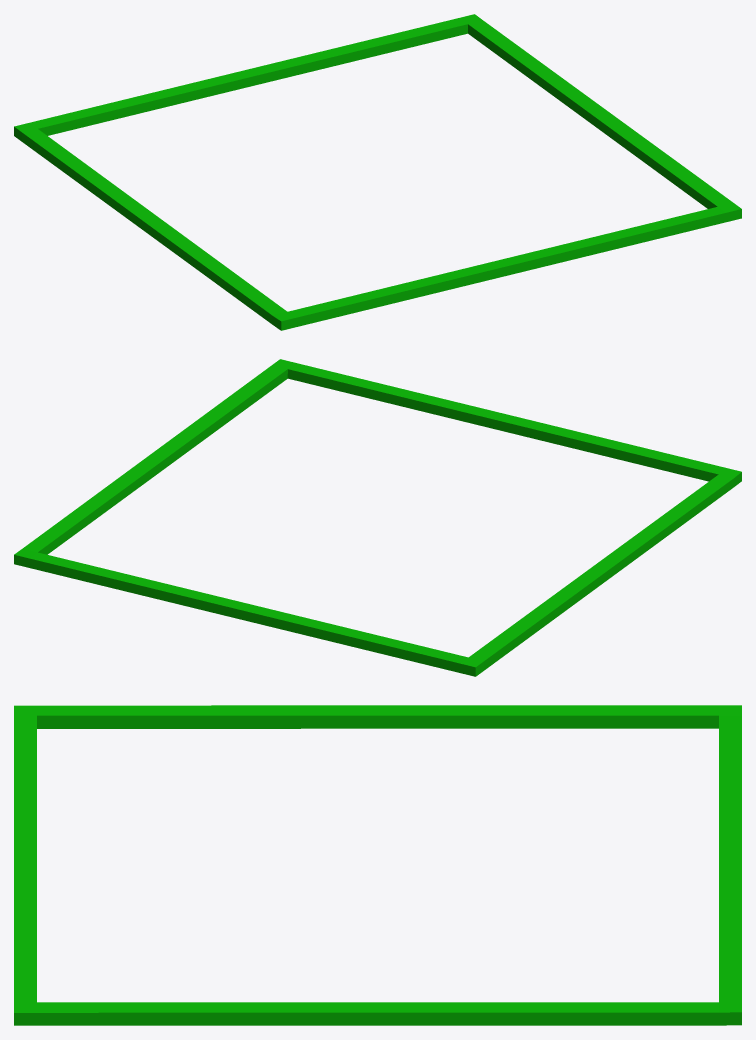
File: Square.fbx
3 renders of one model, top to bottom at view 1: azimuth 30°, elevation 25°; view 2: azimuth 150°, elevation 25°; view 3: azimuth 270°, elevation 25°, orthographic. The views are drawn at different scales.
Parts seen in each view (by area): view 1: Cube.001; view 2: Cube.001; view 3: Cube.001.
Part boxes in pixels (left/top/right/bottom): Cube.001: left=14, top=14, right=741, bottom=330; Cube.001: left=14, top=359, right=741, bottom=676; Cube.001: left=14, top=705, right=741, bottom=1025.
Size of the model in its own units: 100 by 2 by 100.
